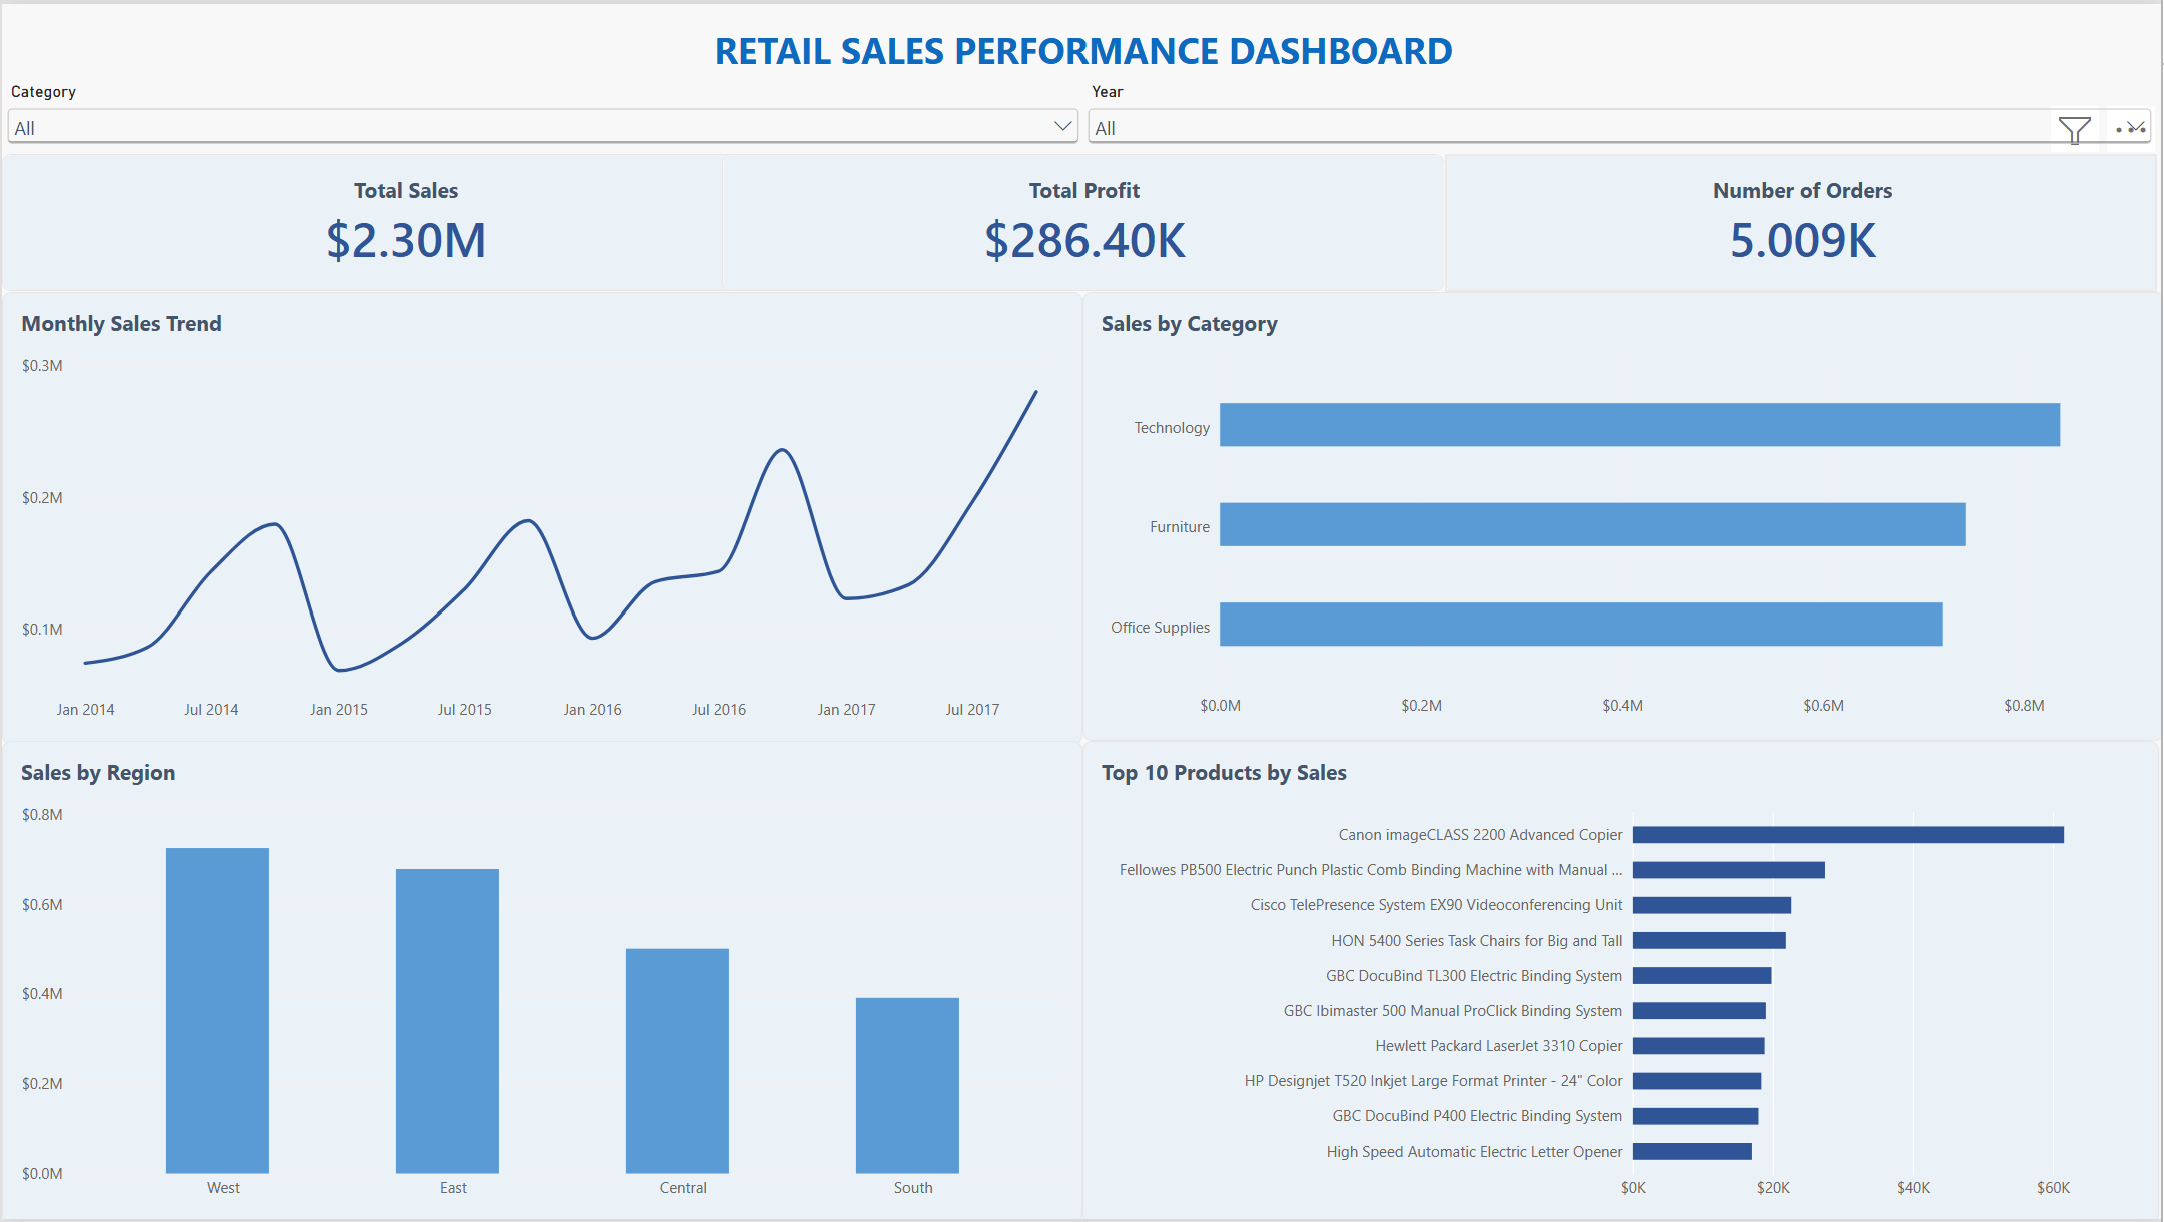

What the dashboard file says about the page in this screenshot:
{"tool":"powerbi","page":{"name":"Page 1","canvas":[1920,1080],"ordinal":0},"visuals":[{"type":"cardVisual","fields":{"Data":["Sum(Tabel1.Sales)"]},"box":[0,134,720.4,122],"z":0},{"type":"cardVisual","fields":{"Data":["Sum(Tabel1.Profit)"]},"box":[640,134,643,122],"z":2},{"type":"cardVisual","fields":{"Data":["Count(Tabel1.Order ID)"]},"box":[1283,134,634,122],"z":3},{"type":"lineChart","title":"Monthly Sales Trend","fields":{"Category":["Tabel1.Order Date.Variation.Date Hierarchy.Year","Tabel1.Order Date.Variation.Date Hierarchy.Quarter","Tabel1.Order Date.Variation.Date Hierarchy.Month","Tabel1.Order Date.Variation.Date Hierarchy.Day"],"Y":["Sum(Tabel1.Sales)"]},"box":[0,256.2,962.7,402.2],"z":4},{"type":"clusteredBarChart","title":"Sales by Category","fields":{"Category":["Tabel1.Category"],"Y":["Sum(Tabel1.Sales)"]},"box":[960.9,256.2,962.7,398.6],"z":5},{"type":"clusteredColumnChart","title":"Sales by Region","fields":{"Category":["Tabel1.Region"],"Y":["Sum(Tabel1.Sales)"]},"box":[0,654.8,960.9,428.8],"z":6},{"type":"clusteredBarChart","title":"Top 10 Products by Sales","fields":{"Category":["Tabel1.Product Name"],"Y":["Sum(Tabel1.Sales)"]},"box":[960.9,654.8,957.3,428.8],"z":7},{"type":"textbox","box":[3.6,0,1916.4,69.4],"z":8},{"type":"slicer","fields":{"Values":["Tabel1.Order Date.Variation.Date Hierarchy.Year"]},"box":[960.9,69.4,955.6,97.9],"z":9},{"type":"slicer","fields":{"Values":["Tabel1.Category"]},"box":[0,69.4,962.7,83.6],"z":10}]}

Visuals, with their boxes in screenshot pixels (x1, y1, x2, y2), scaled from the page's 1920x1080 canvas onto the 2164x1222 screenshot:
cardVisual - Sum(Tabel1.Sales): <bbox>0, 152, 812, 290</bbox>
cardVisual - Sum(Tabel1.Profit): <bbox>721, 152, 1446, 290</bbox>
cardVisual - Count(Tabel1.Order ID): <bbox>1446, 152, 2161, 290</bbox>
"Monthly Sales Trend" lineChart: <bbox>0, 290, 1085, 745</bbox>
"Sales by Category" clusteredBarChart: <bbox>1083, 290, 2163, 741</bbox>
"Sales by Region" clusteredColumnChart: <bbox>0, 741, 1083, 1221</bbox>
"Top 10 Products by Sales" clusteredBarChart: <bbox>1083, 741, 2162, 1221</bbox>
textbox: <bbox>4, 0, 2163, 79</bbox>
slicer - Tabel1.Order Date.Variation.Date Hierarchy.Year: <bbox>1083, 79, 2160, 189</bbox>
slicer - Tabel1.Category: <bbox>0, 79, 1085, 173</bbox>
